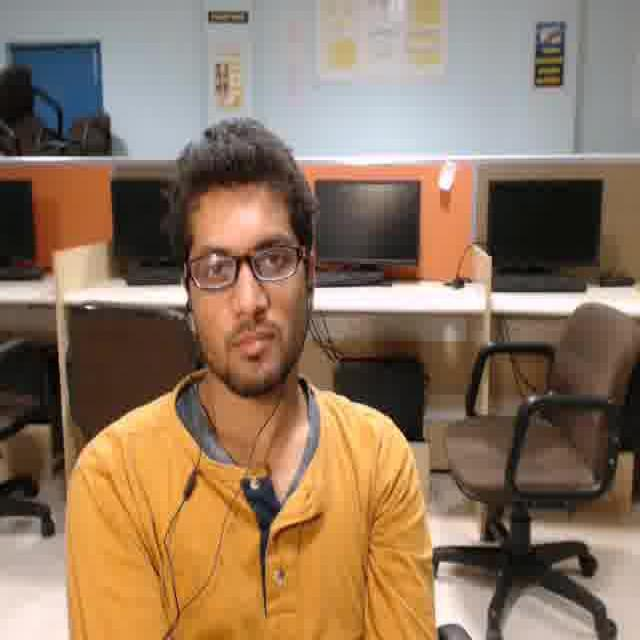Boredom: (187, 181, 304, 387)
